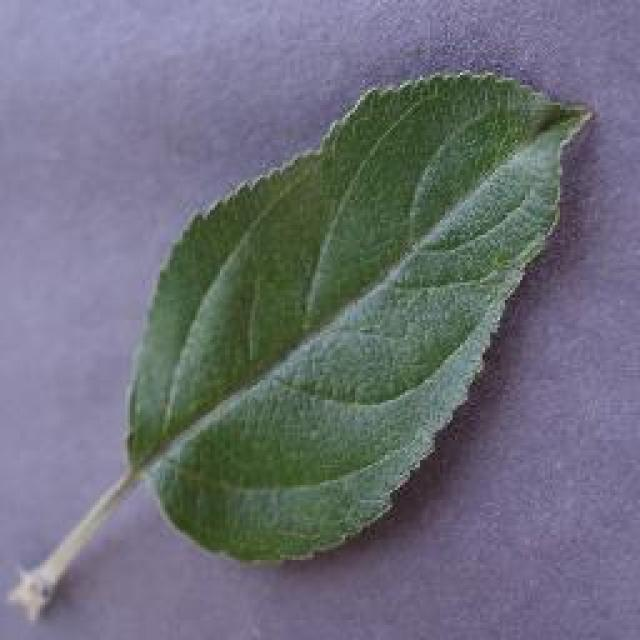apple healthy: (3, 62, 595, 620)
